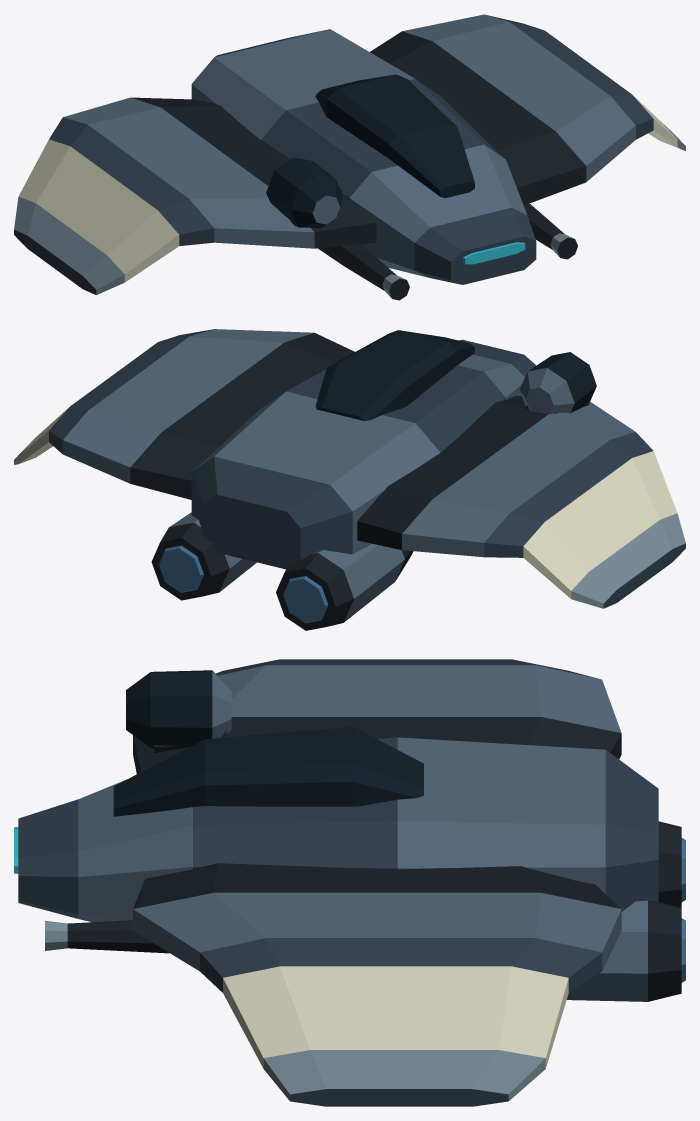
Rendered from Veil.obj.
The picture shows the model from 3 angles, top to bottom: view 1: azimuth 30°, elevation 25°; view 2: azimuth 150°, elevation 25°; view 3: azimuth 270°, elevation 25°; orthographic projection. The views are drawn at different scales.
Visible parts, largest first — view 1: port_wing, fuselage, starboard_wing, canopy, sensor_pod, port_cannon, starboard_cannon, visor; view 2: port_wing, fuselage, starboard_wing, canopy, port_engine, sensor_pod, starboard_engine, port_exhaust, starboard_exhaust; view 3: starboard_wing, fuselage, port_wing, canopy, starboard_engine, sensor_pod, starboard_cannon, port_engine.
Boxes of the visible parts, x1=… form: port_wing: x1=14, y1=97, x2=376, y2=294; fuselage: x1=191, y1=29, x2=536, y2=284; starboard_wing: x1=370, y1=14, x2=685, y2=205; canopy: x1=315, y1=74, x2=474, y2=198; sensor_pod: x1=266, y1=157, x2=343, y2=228; port_cannon: x1=318, y1=244, x2=409, y2=300; starboard_cannon: x1=524, y1=203, x2=577, y2=259; visor: x1=463, y1=242, x2=525, y2=264; port_wing: x1=357, y1=395, x2=685, y2=608; fuselage: x1=191, y1=339, x2=535, y2=569; starboard_wing: x1=14, y1=329, x2=354, y2=499; canopy: x1=315, y1=330, x2=474, y2=420; port_engine: x1=276, y1=544, x2=413, y2=630; sensor_pod: x1=519, y1=352, x2=596, y2=413; starboard_engine: x1=151, y1=512, x2=256, y2=600; port_exhaust: x1=283, y1=576, x2=328, y2=623; starboard_exhaust: x1=159, y1=545, x2=203, y2=592; starboard_wing: x1=133, y1=863, x2=621, y2=1106; fuselage: x1=18, y1=737, x2=658, y2=922; port_wing: x1=133, y1=659, x2=621, y2=773; canopy: x1=113, y1=727, x2=423, y2=816; starboard_engine: x1=566, y1=900, x2=681, y2=1001; sensor_pod: x1=126, y1=670, x2=231, y2=748; starboard_cannon: x1=45, y1=920, x2=169, y2=953; port_engine: x1=658, y1=821, x2=681, y2=907.
Bounding box in the file's own units: 5.12 × 1.34 × 3.81.
